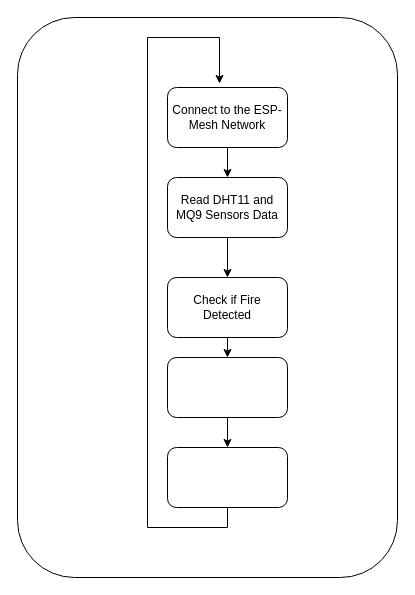
This 415x595 diagram has some shape labels left out. The centre of each missing label's shape, as x and y in pixels:
"Enter Deep Sleep Mode For 10min" belongs at point 227,477.
"Send Sensor Data and Status to the Gateway" belongs at point 227,387.
